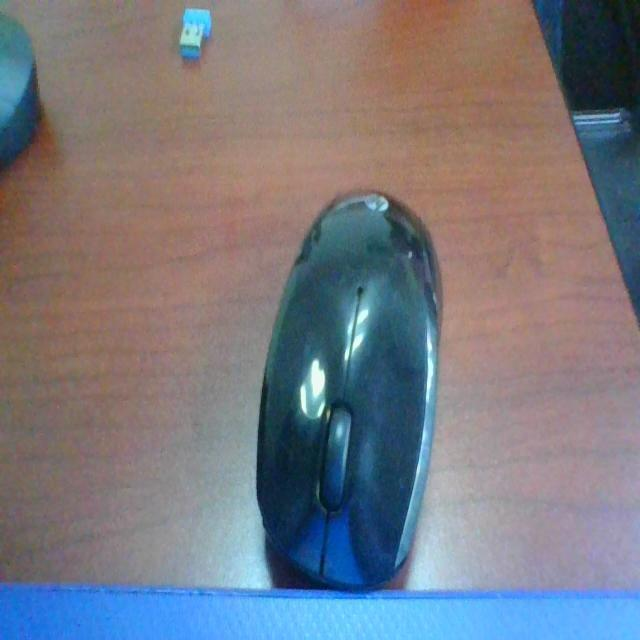mouse: (246, 162, 457, 598)
